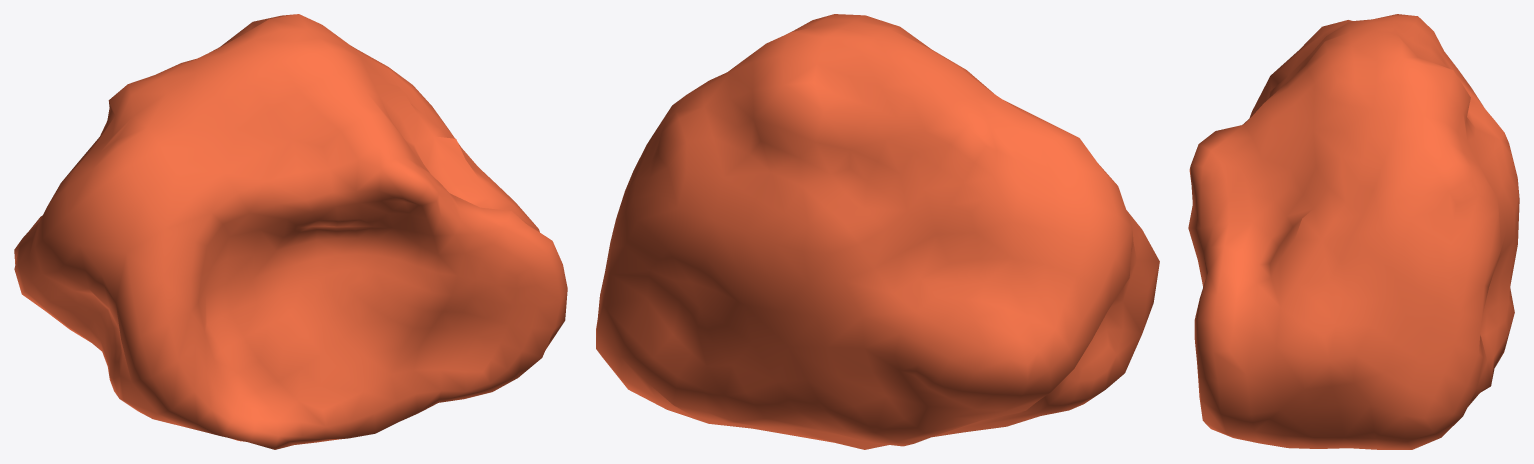
Rendered from Pedraustor3.fbx.
3 views of the same model, side by side, from view 1: azimuth 30°, elevation 25°; view 2: azimuth 150°, elevation 25°; view 3: azimuth 270°, elevation 25° (orthographic). The views are drawn at different scales.
Visible parts, largest first — view 1: sphere1; view 2: sphere1; view 3: sphere1.
Part boxes in pixels (x1=…): sphere1: x1=14, y1=14, x2=567, y2=449; sphere1: x1=596, y1=14, x2=1159, y2=449; sphere1: x1=1188, y1=14, x2=1519, y2=449.
Bounding box in the file's own units: 1.39 × 1.05 × 0.9095.
